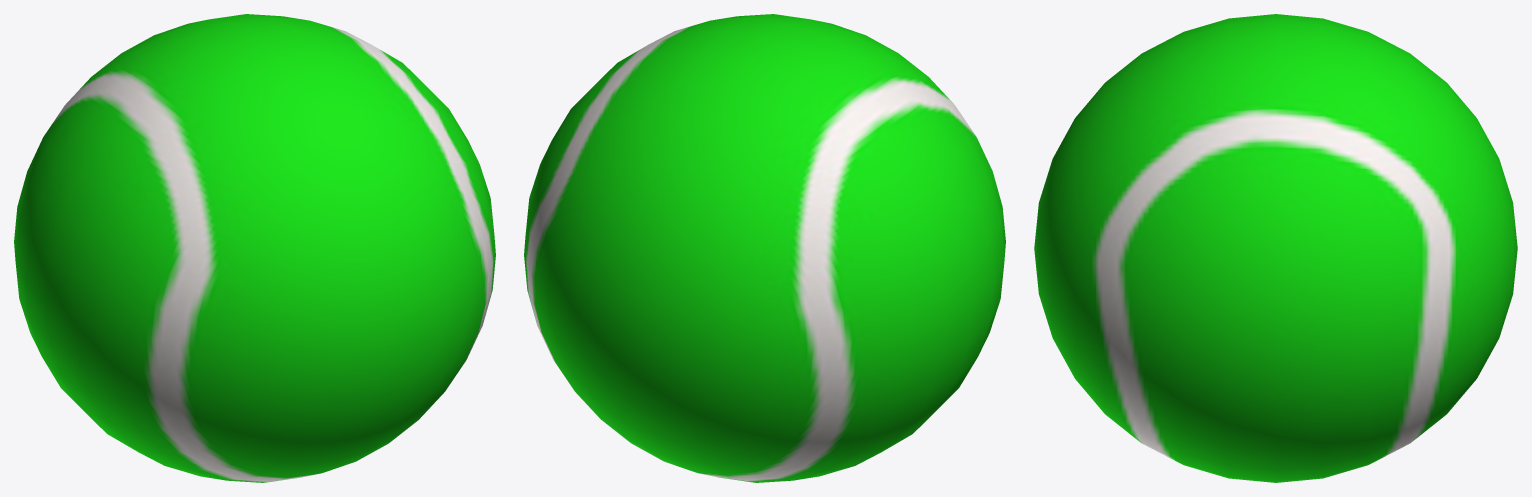
The model's file is Tennis_ball.glb.
3 views of the same model, side by side, from view 1: azimuth 30°, elevation 25°; view 2: azimuth 150°, elevation 25°; view 3: azimuth 270°, elevation 25° (orthographic).
Visible parts, largest first — view 1: Tennis Ball_09 - Default_0; view 2: Tennis Ball_09 - Default_0; view 3: Tennis Ball_09 - Default_0.
Boxes of the visible parts, x1,y1,x2,y2 form: Tennis Ball_09 - Default_0: (14, 14, 495, 482); Tennis Ball_09 - Default_0: (524, 14, 1005, 482); Tennis Ball_09 - Default_0: (1034, 14, 1517, 482).
Size of the model in its own units: 0.173 by 0.167 by 0.173.
1 material, 1 textured.
